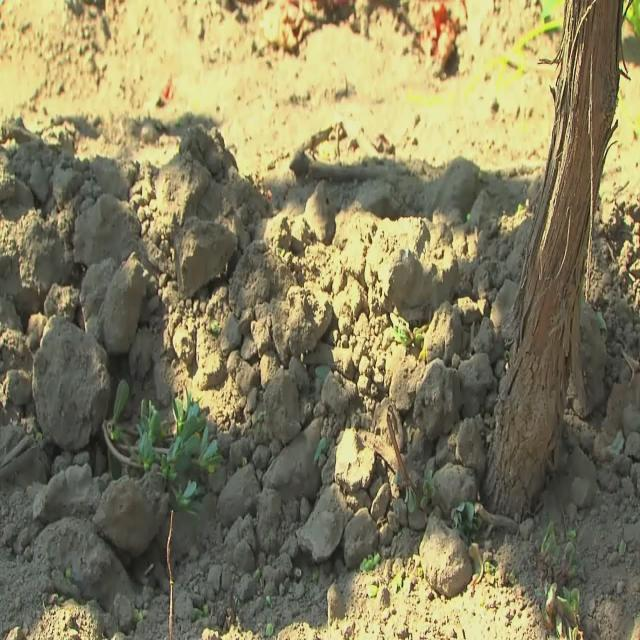Alluvial Soil: (13, 116, 504, 397)
